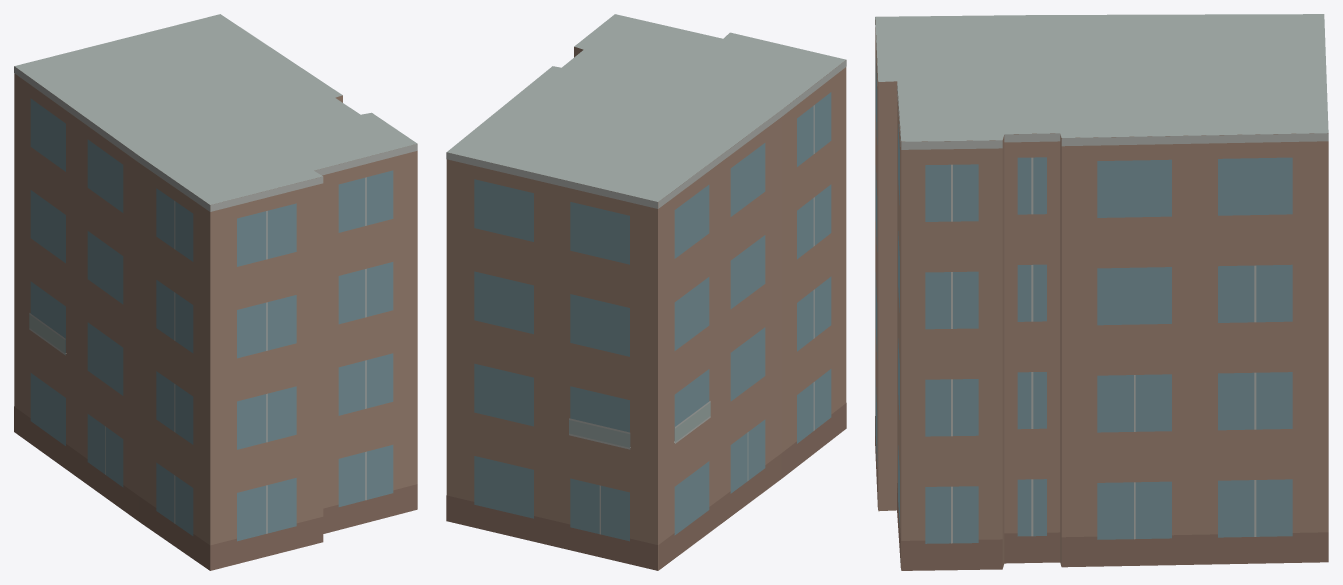
The model's file is survey-upis-32472255.glb.
3 views of the same model, side by side, from view 1: azimuth 30°, elevation 25°; view 2: azimuth 150°, elevation 25°; view 3: azimuth 270°, elevation 25° (orthographic). The views are drawn at different scales.
Parts seen in each view (by area): view 1: survey-upis-32472255.tmp; view 2: survey-upis-32472255.tmp; view 3: survey-upis-32472255.tmp.
Boxes of the visible parts, left/top/right/bottom form: survey-upis-32472255.tmp: left=14, top=14, right=417, bottom=570; survey-upis-32472255.tmp: left=446, top=14, right=846, bottom=570; survey-upis-32472255.tmp: left=875, top=14, right=1328, bottom=570.
Bounding box in the file's own units: 8.21 × 12.8 × 12.27.
